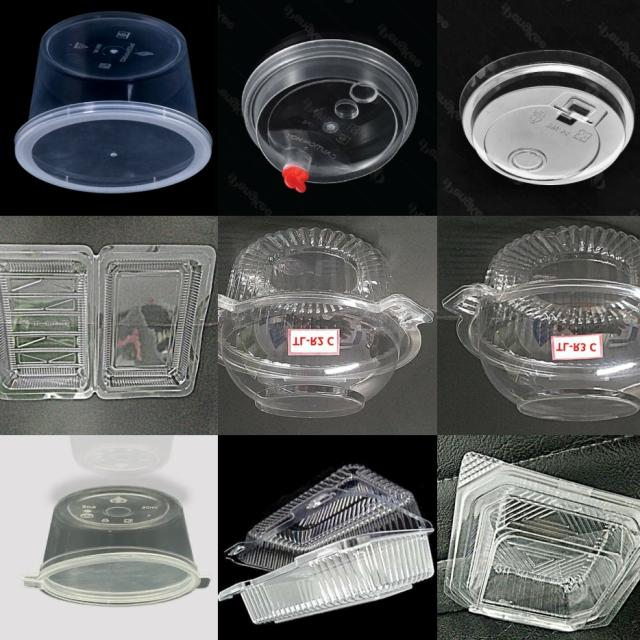plastik: (220, 227, 433, 417), (443, 225, 640, 422), (15, 12, 212, 192), (444, 453, 640, 631), (218, 464, 434, 624), (0, 245, 214, 400), (241, 39, 417, 193), (462, 52, 632, 184), (22, 487, 208, 607)
